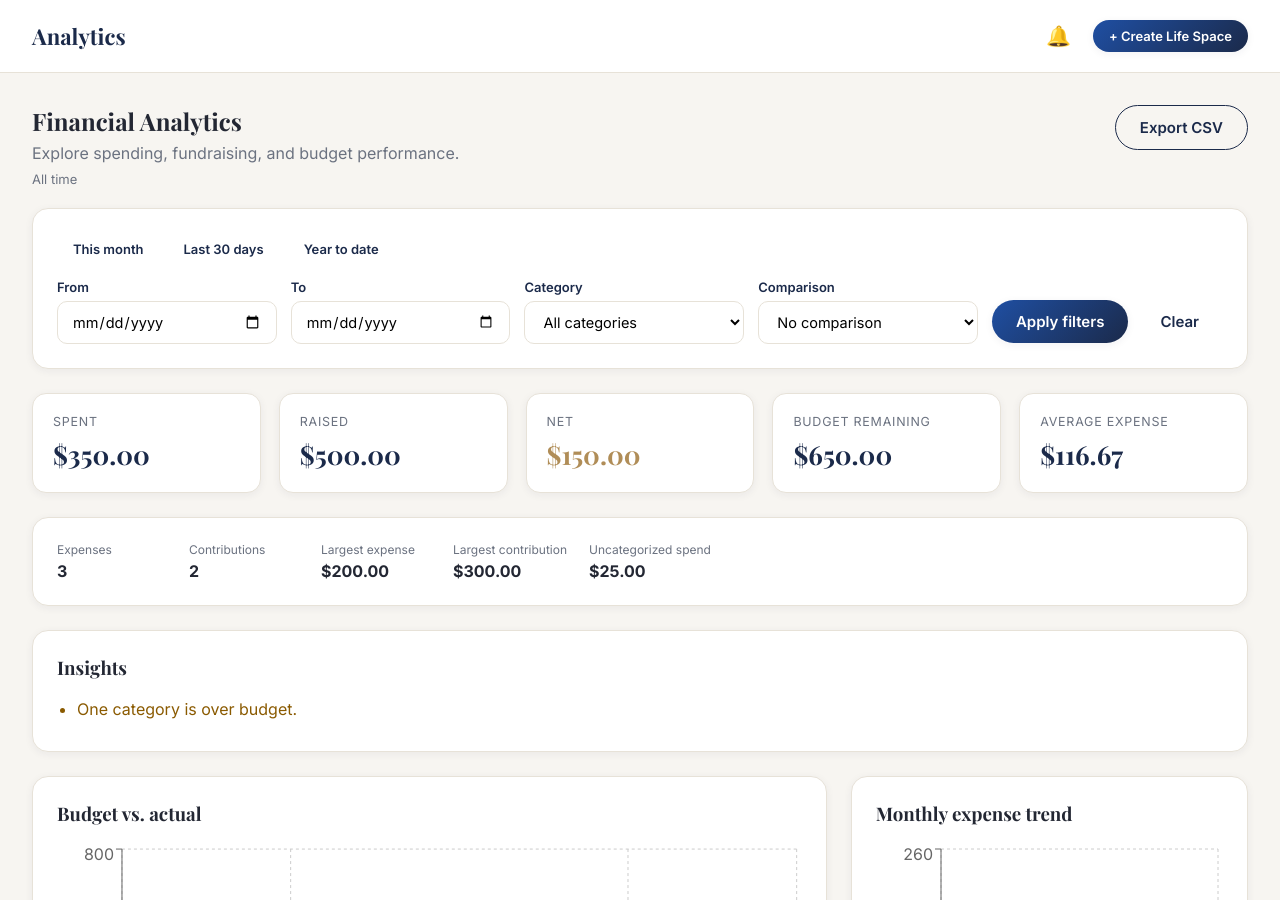
Analytics v2 › fills this-month dates from the current UTC date
Click the button "This month": (108, 249) top-left (57, 233), bottom-right (160, 265)
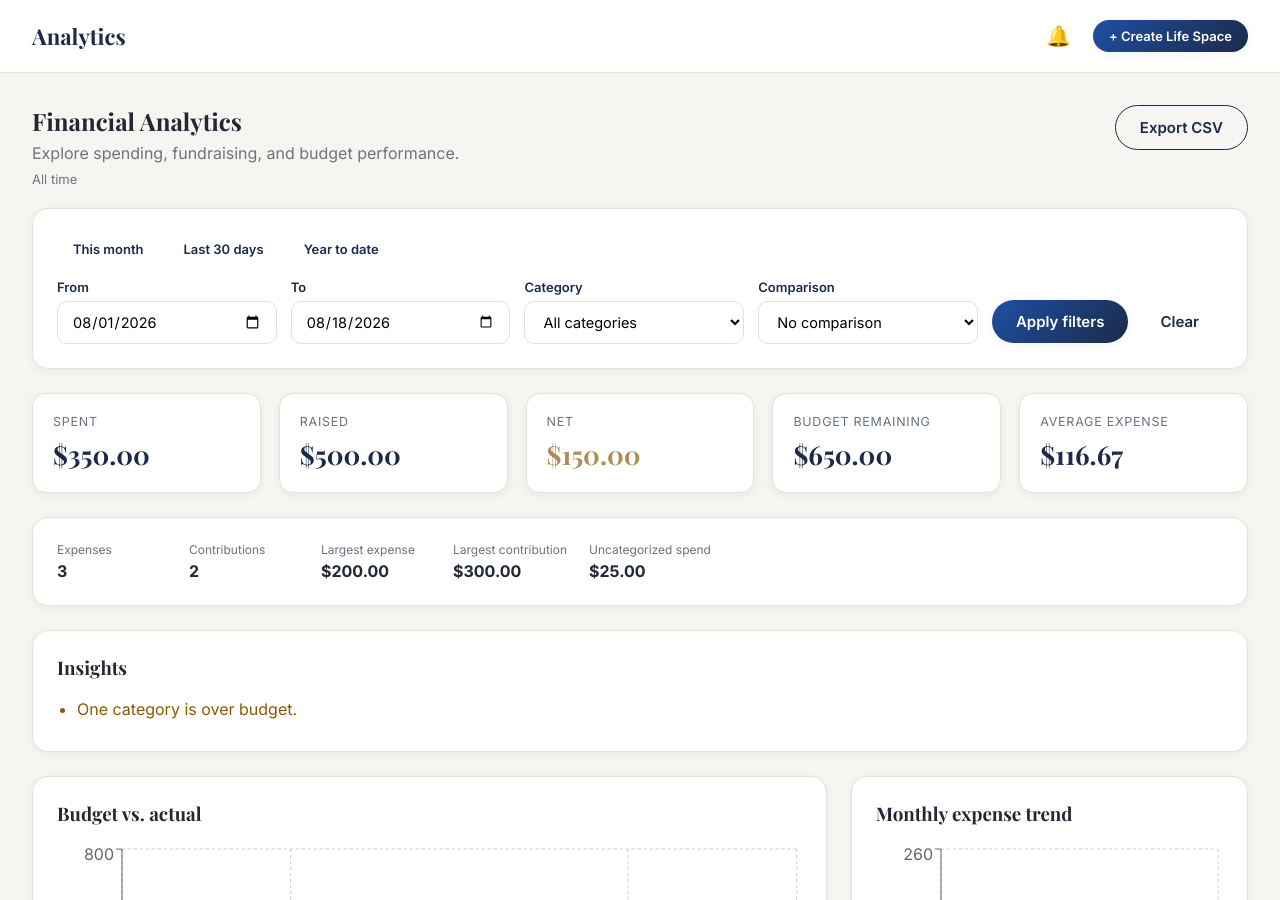
Expected: the date field labelled "From" holds "2026-08-01", top-left (57, 301), bottom-right (277, 344)
Expected: the date field labelled "To" holds "2026-08-18", top-left (291, 301), bottom-right (510, 344)
